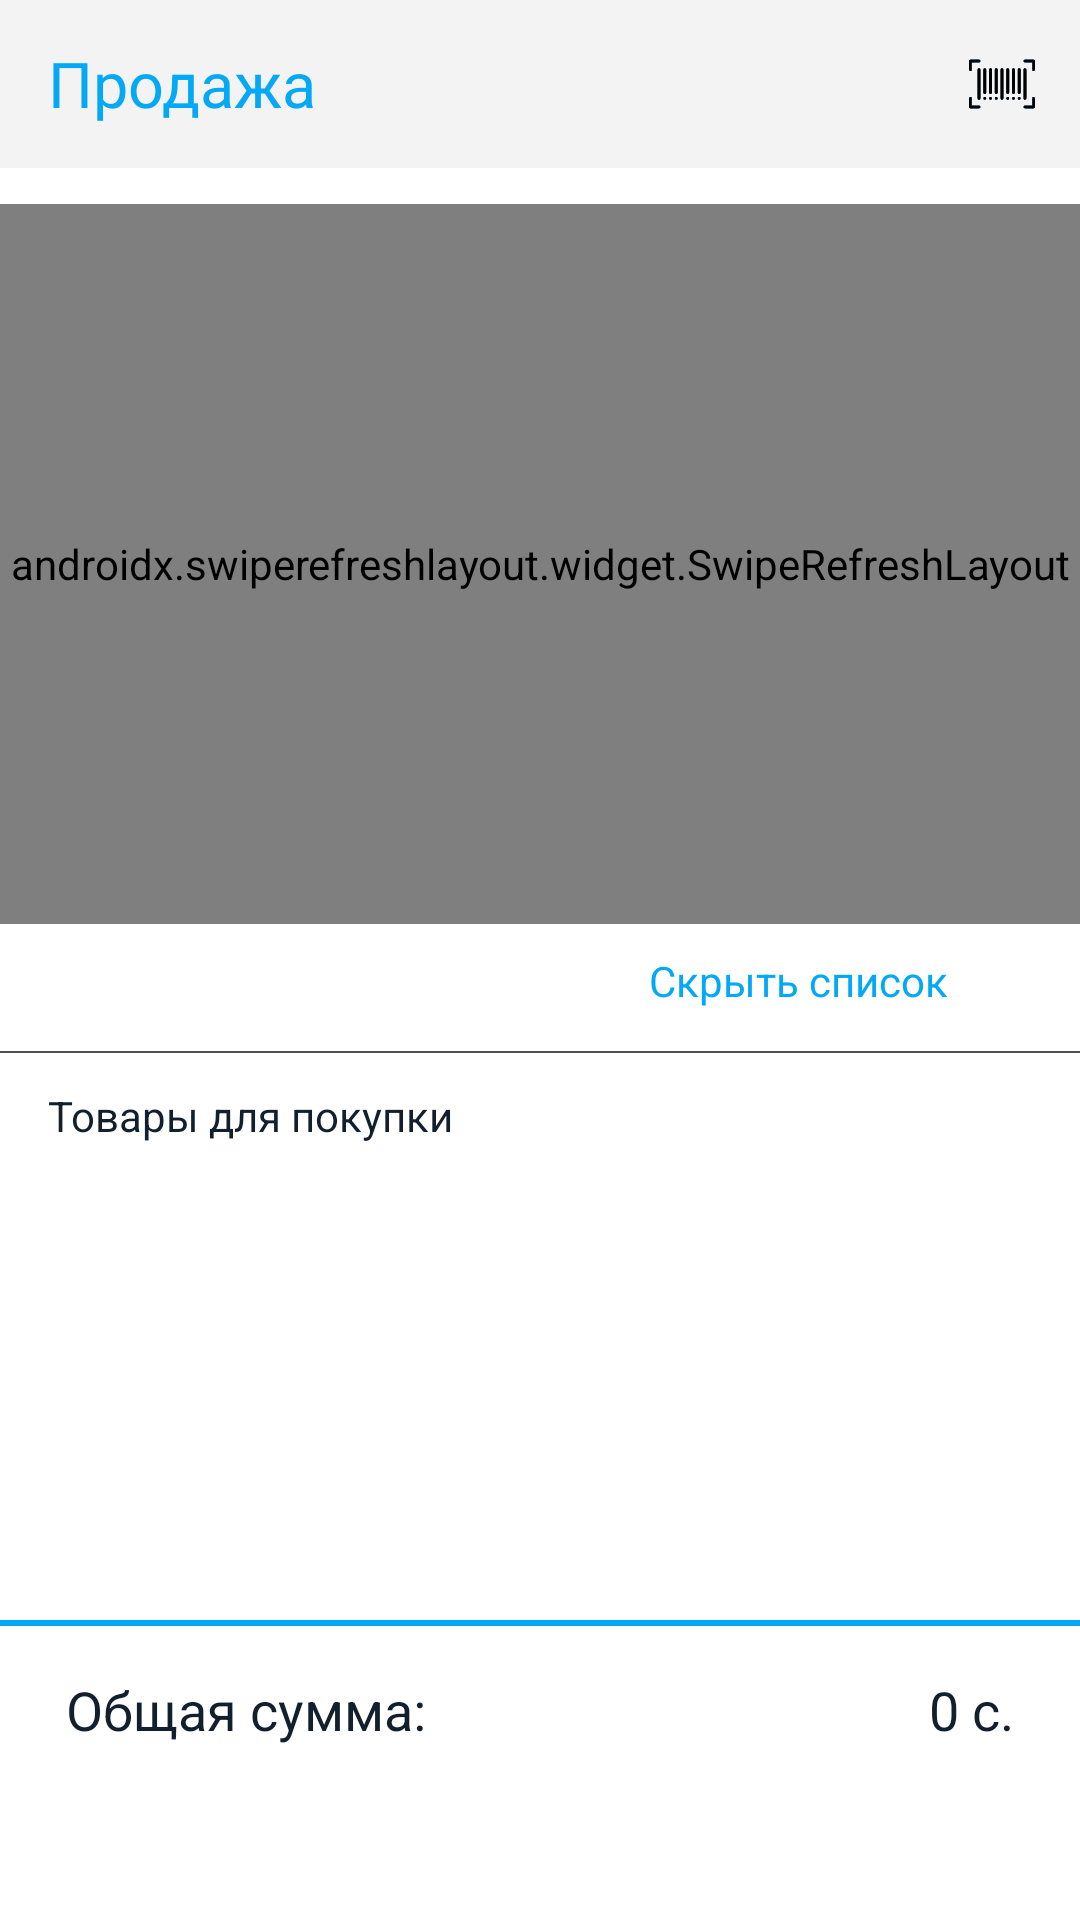

Icons on this 1080 × 1920 Android screen, each with its box as (x1, y1, x2, y2):
barcode: (969, 59, 1035, 109)
